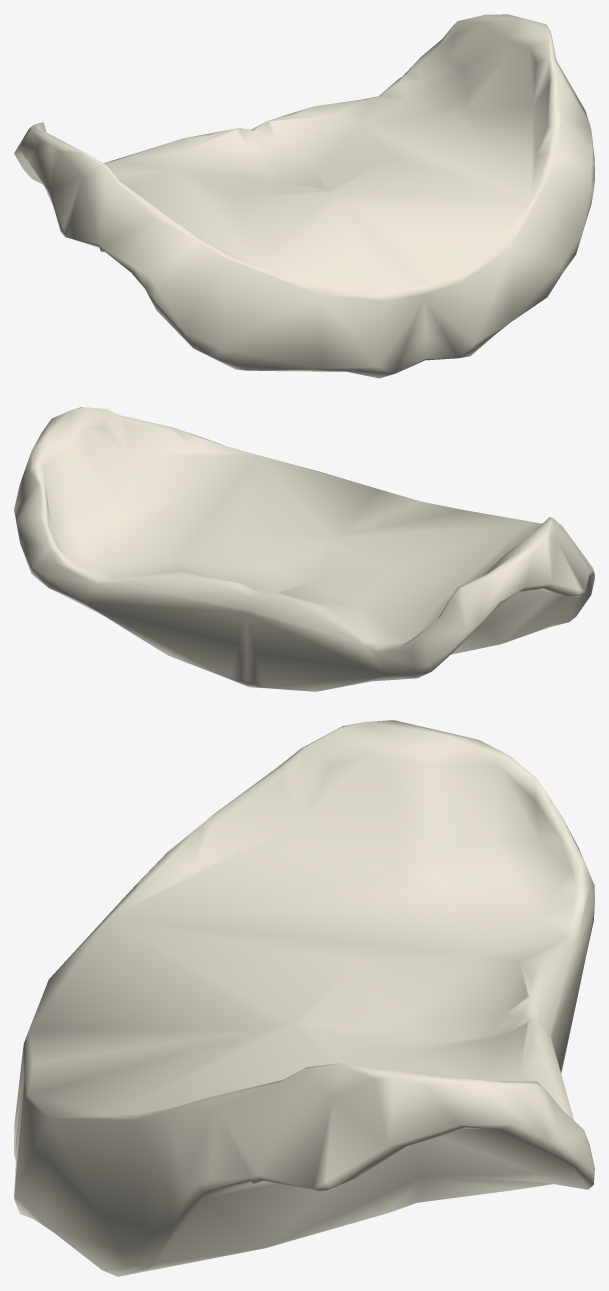
3 renders of one model, top to bottom at view 1: azimuth 30°, elevation 25°; view 2: azimuth 150°, elevation 25°; view 3: azimuth 270°, elevation 25°, orthographic. The views are drawn at different scales.
Visible parts, largest first — view 1: ZA_69f78636f0404d15; view 2: ZA_69f78636f0404d15; view 3: ZA_69f78636f0404d15.
Boxes of the visible parts, x1=… form: ZA_69f78636f0404d15: x1=14, y1=14, x2=594, y2=378; ZA_69f78636f0404d15: x1=14, y1=407, x2=594, y2=691; ZA_69f78636f0404d15: x1=14, y1=720, x2=594, y2=1276.
Size of the model in its own units: 0.0242 by 0.00864 by 0.0159.
